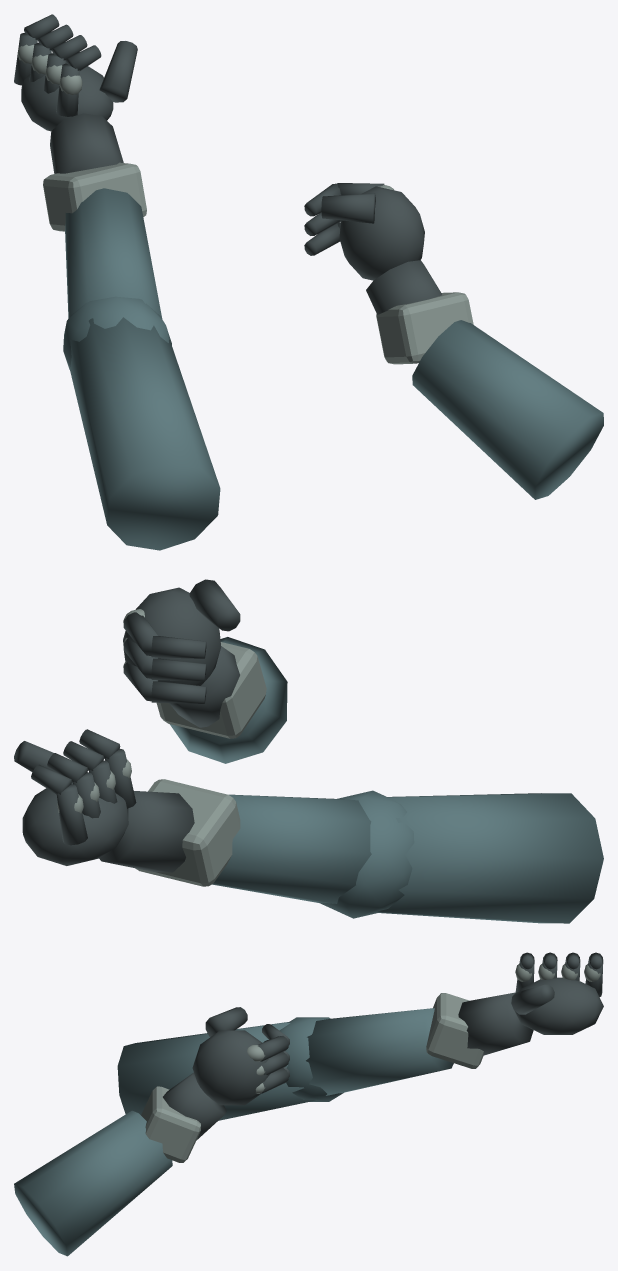
Rendered from operator-grip-v4.glb.
3 renders of one model, top to bottom at view 1: azimuth 30°, elevation 25°; view 2: azimuth 150°, elevation 25°; view 3: azimuth 270°, elevation 25°, orthographic. The views are drawn at different scales.
Parts seen in each view (by area): view 1: Operator slate fabric, Operator charcoal glove, Cuff and knuckle protection; view 2: Operator slate fabric, Operator charcoal glove, Cuff and knuckle protection; view 3: Operator slate fabric, Operator charcoal glove, Cuff and knuckle protection.
Boxes of the visible parts, x1,y1,x2,y2 form: Operator slate fabric: (63,188,603,550); Operator charcoal glove: (14,14,441,314); Cuff and knuckle protection: (17,44,473,364); Operator slate fabric: (169,637,603,923); Operator charcoal glove: (14,579,240,872); Cuff and knuckle protection: (57,609,266,886); Operator slate fabric: (14,1008,453,1256); Operator charcoal glove: (163,952,603,1140); Cuff and knuckle protection: (141,963,600,1162).
Bounding box in the file's own units: 0.7209 × 0.4664 × 1.03.
